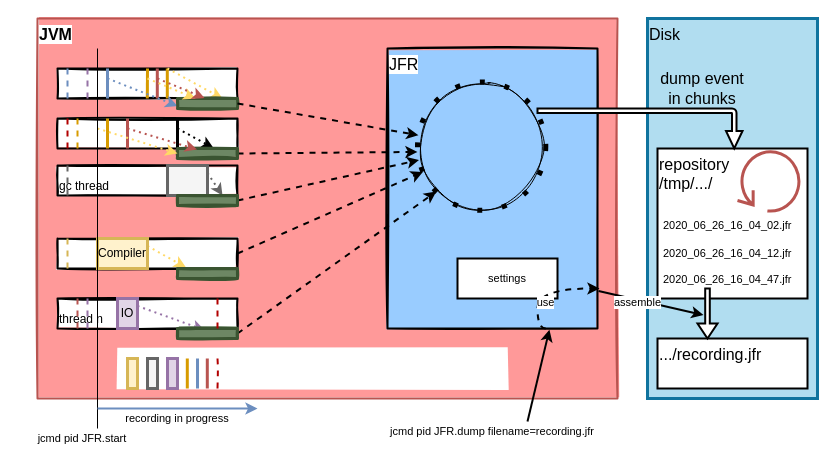
The diagram is 836 pixels wide and 466 high, and some of its shapes have lost their labels. The centre of each missing label's shape, as x and y in pixels:
<= These are runtime sub system events dashed means disabled: the point at 312,368
circular buffer: the point at 769,180
GC: the point at 187,180
global in-memory buffer: the point at 481,145
thread 1: the point at 147,83
